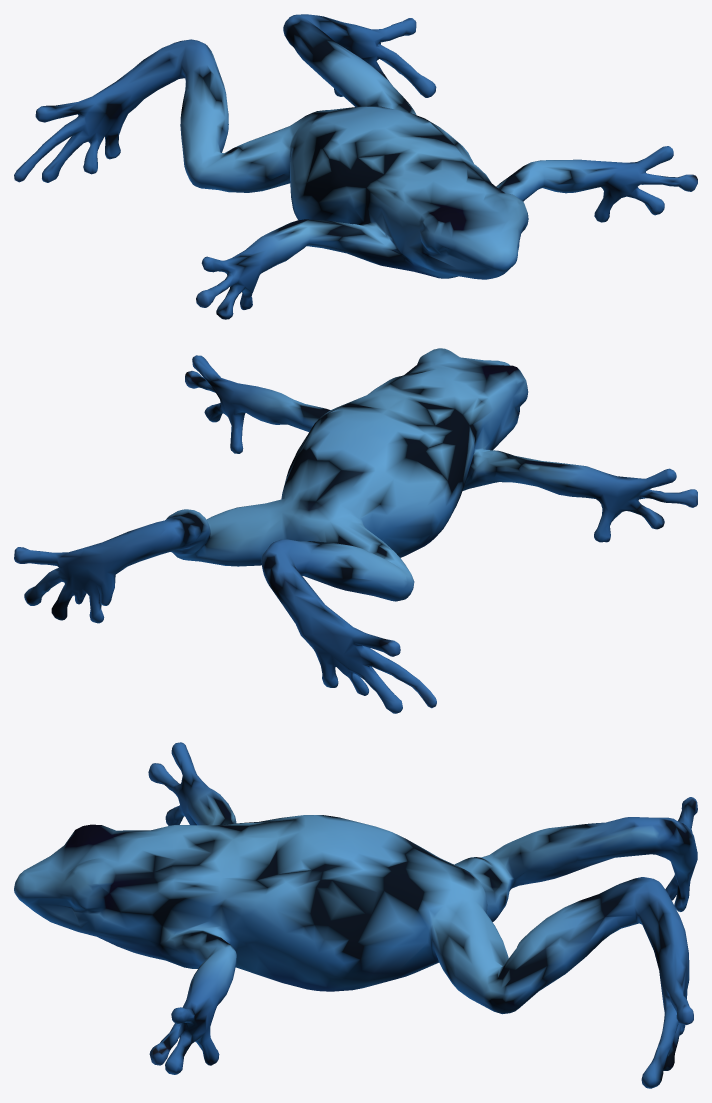
The model's file is dartfrog-sky_spotted.swim.lo.glb.
3 views of the same model, one above another, from view 1: azimuth 30°, elevation 25°; view 2: azimuth 150°, elevation 25°; view 3: azimuth 270°, elevation 25° (orthographic). The views are drawn at different scales.
Visible parts, largest first — view 1: dartfrog:sky_spotted.swim; view 2: dartfrog:sky_spotted.swim; view 3: dartfrog:sky_spotted.swim.
Boxes of the visible parts, left/top/right/bottom form: dartfrog:sky_spotted.swim: left=14, top=14, right=697, bottom=319; dartfrog:sky_spotted.swim: left=14, top=348, right=697, bottom=713; dartfrog:sky_spotted.swim: left=14, top=742, right=697, bottom=1088.
Size of the model in its own units: 0.0612 by 0.0153 by 0.0616.
